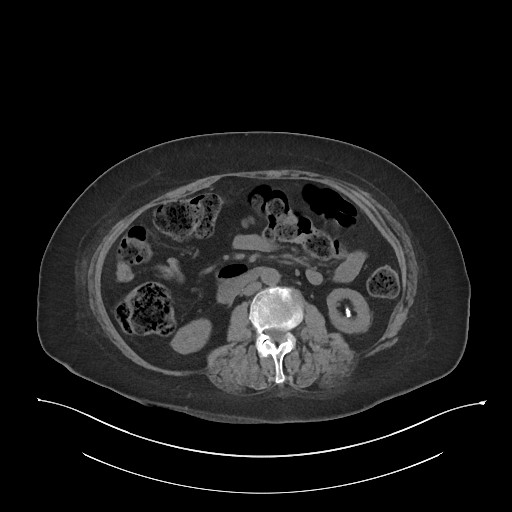Lesion: (339, 302, 358, 325)
